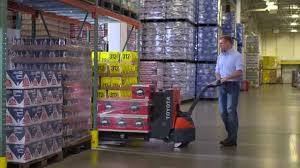Pallet Jack: (94, 77, 228, 150)
